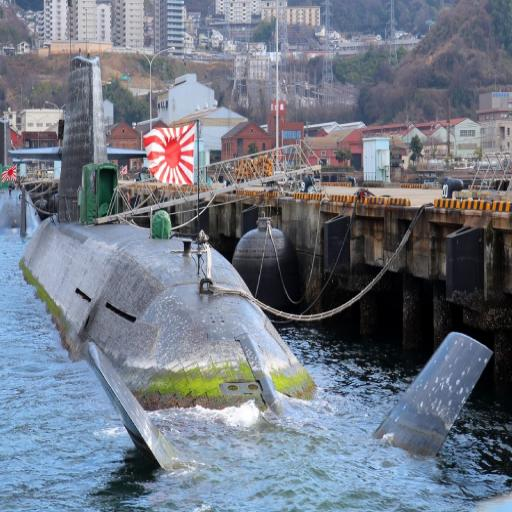submarine: (2, 51, 493, 479)
